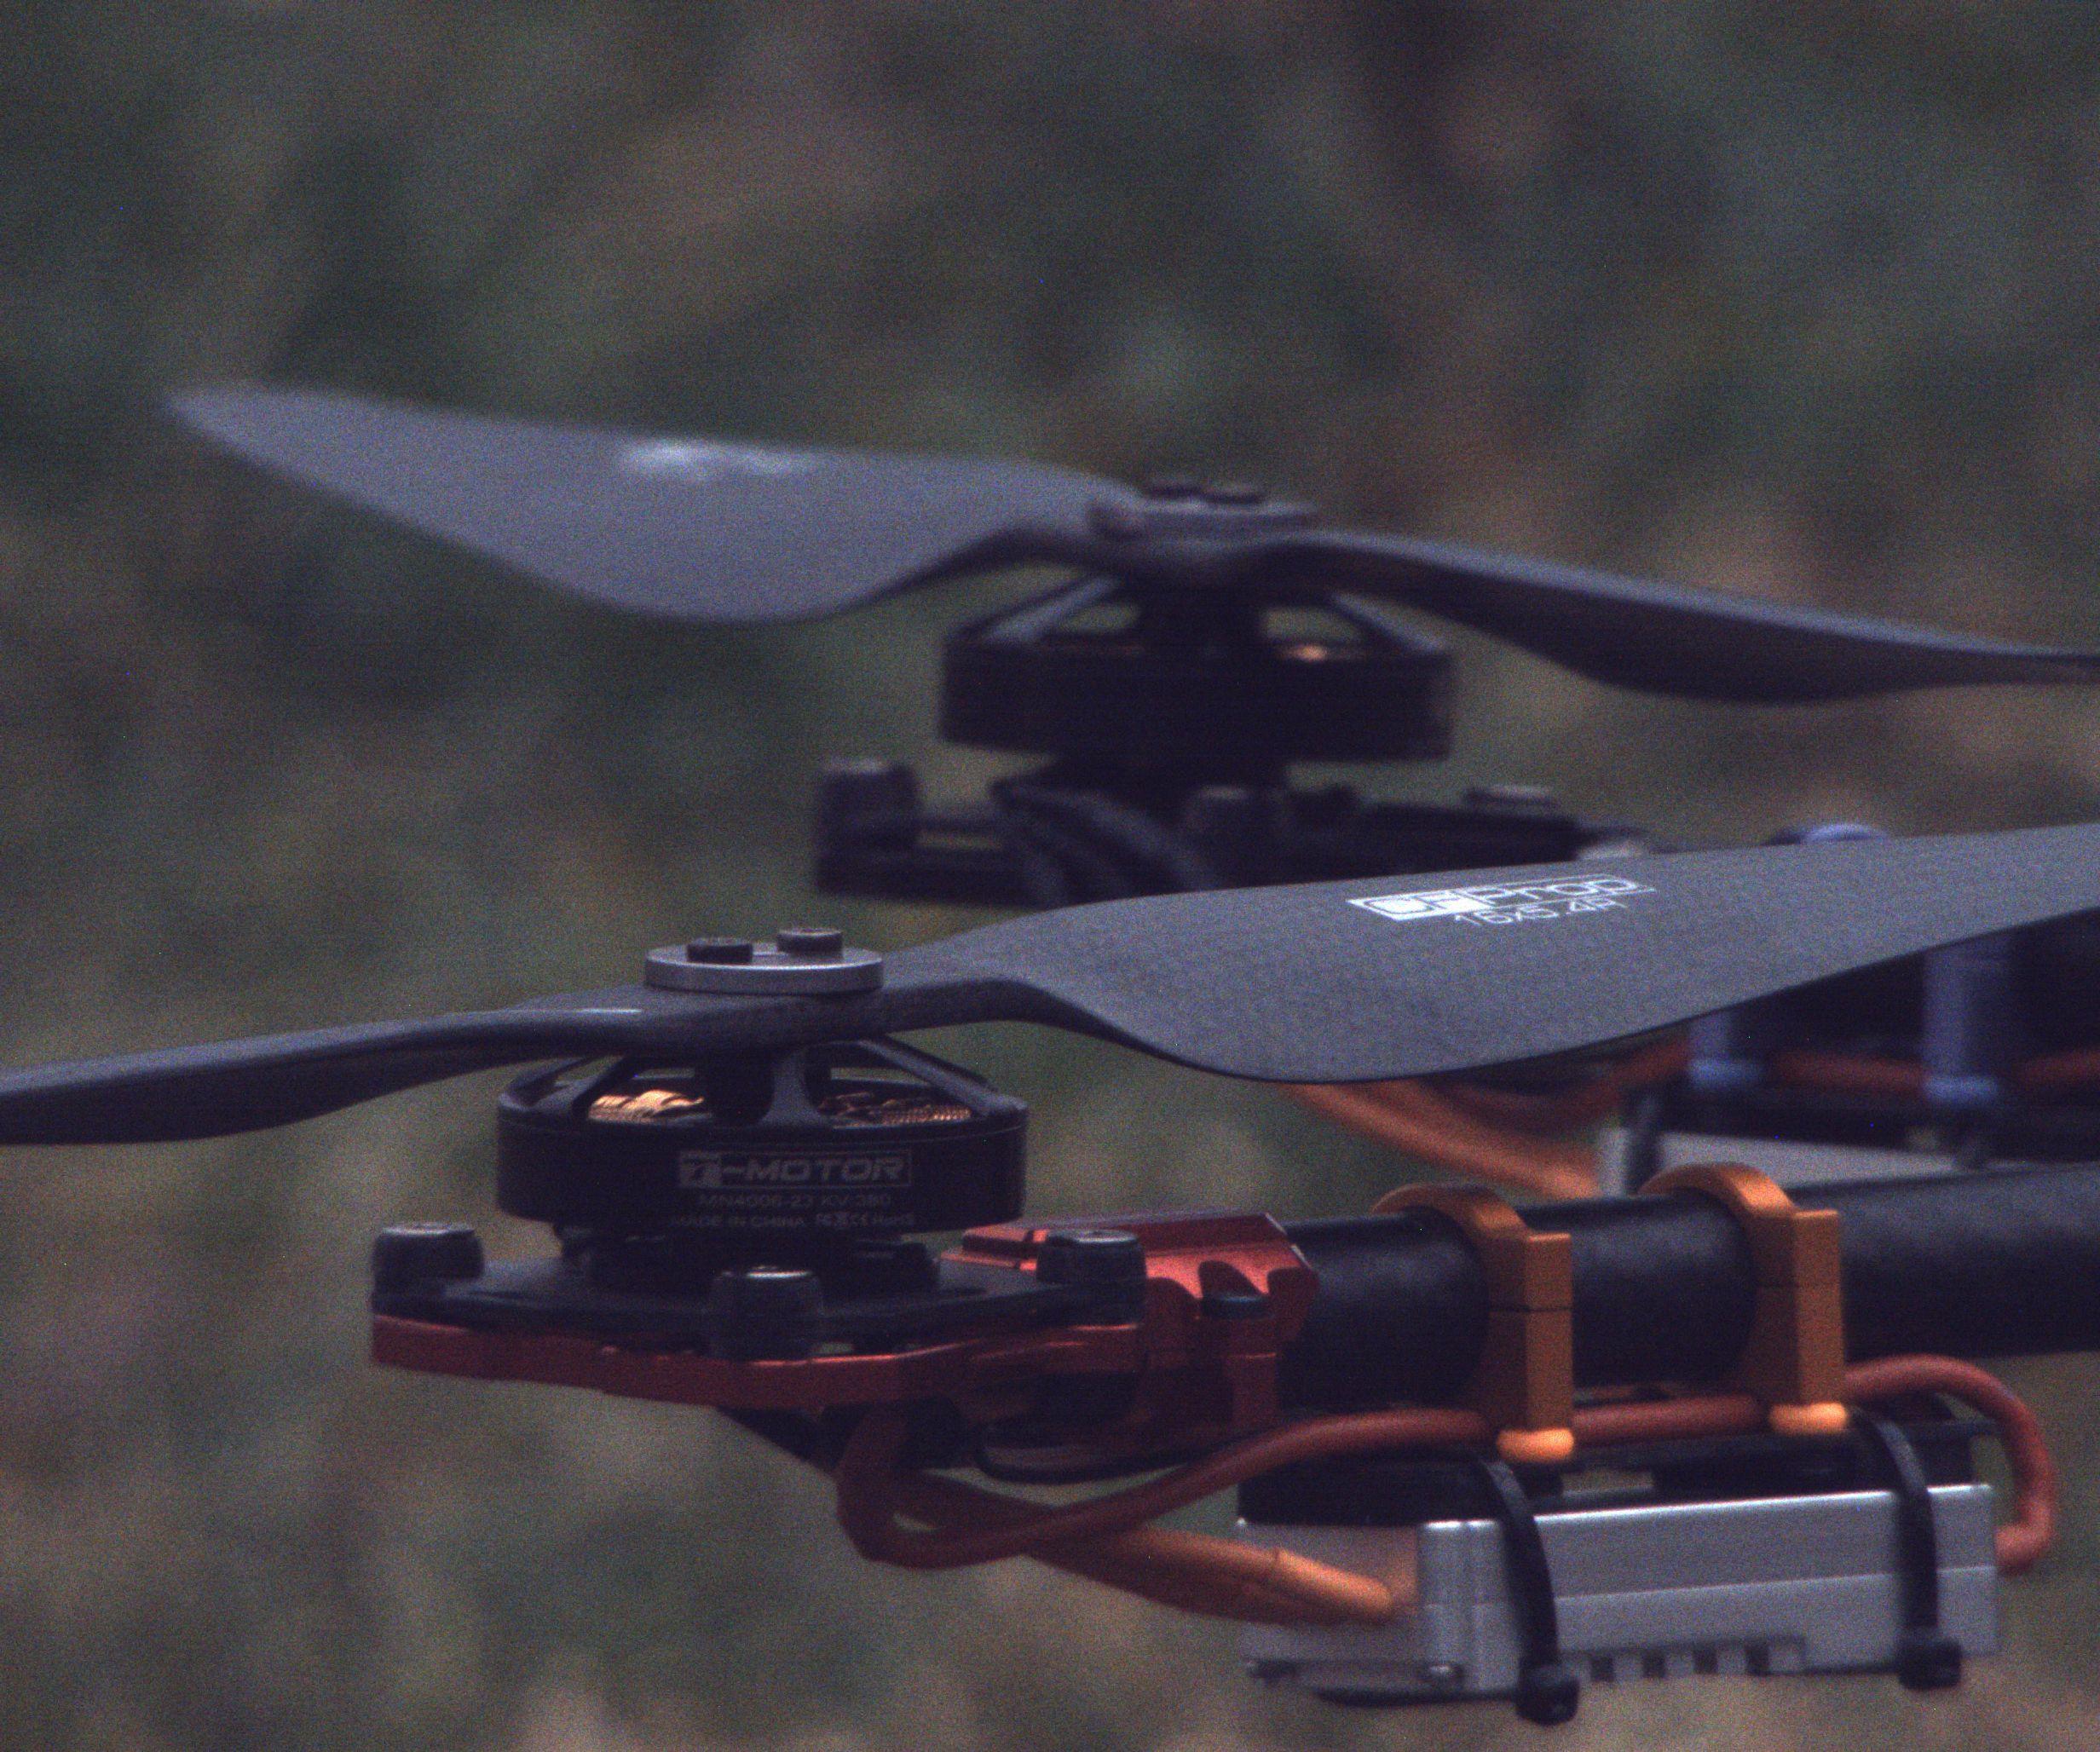Drohne: (10, 354, 2100, 1724)
